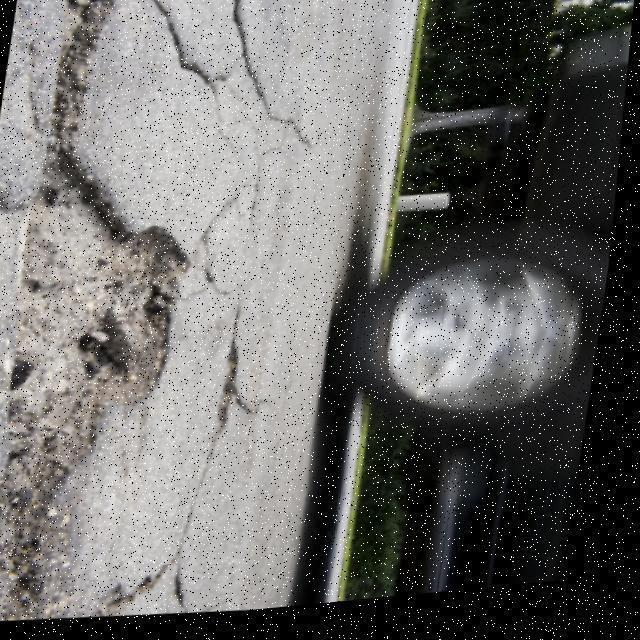Pothole: (0, 2, 194, 619)
